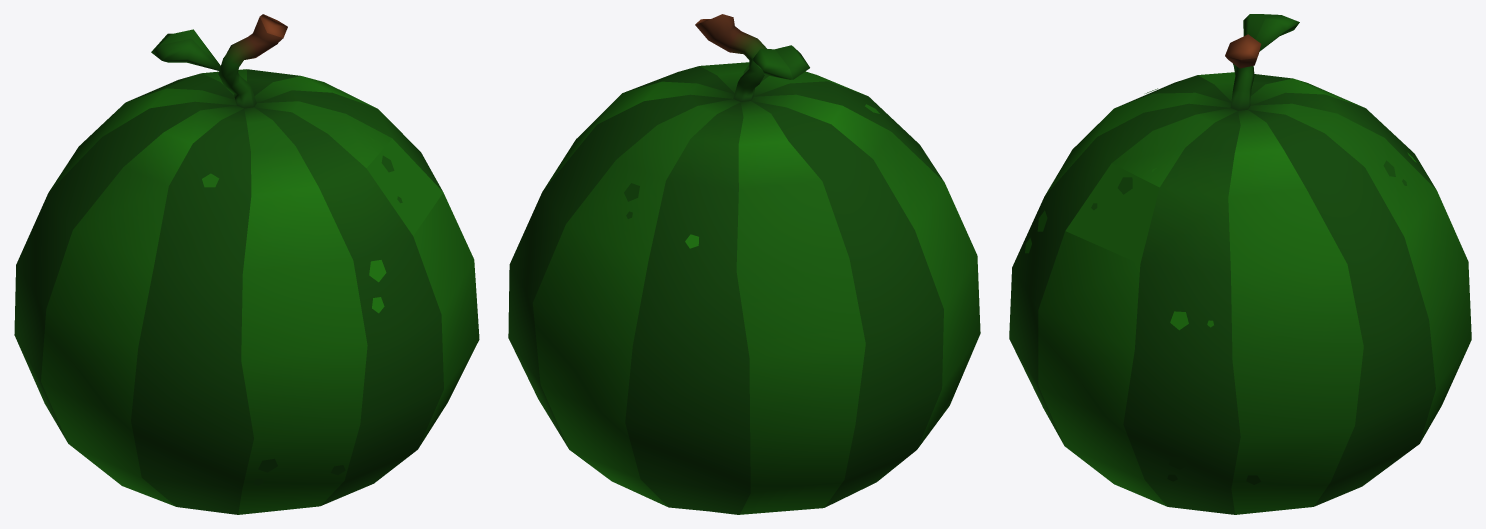
File: Crop_Melon.fbx
3 renders of one model, left to right at view 1: azimuth 30°, elevation 25°; view 2: azimuth 150°, elevation 25°; view 3: azimuth 270°, elevation 25°, orthographic. The views are drawn at different scales.
Visible parts, largest first — view 1: Crop_Melon; view 2: Crop_Melon; view 3: Crop_Melon.
Boxes of the visible parts, x1,y1,x2,y2 form: Crop_Melon: (14,14,479,514); Crop_Melon: (508,14,980,514); Crop_Melon: (1009,14,1471,514).
Bounding box in the file's own units: 2.82 × 3.06 × 2.83.
